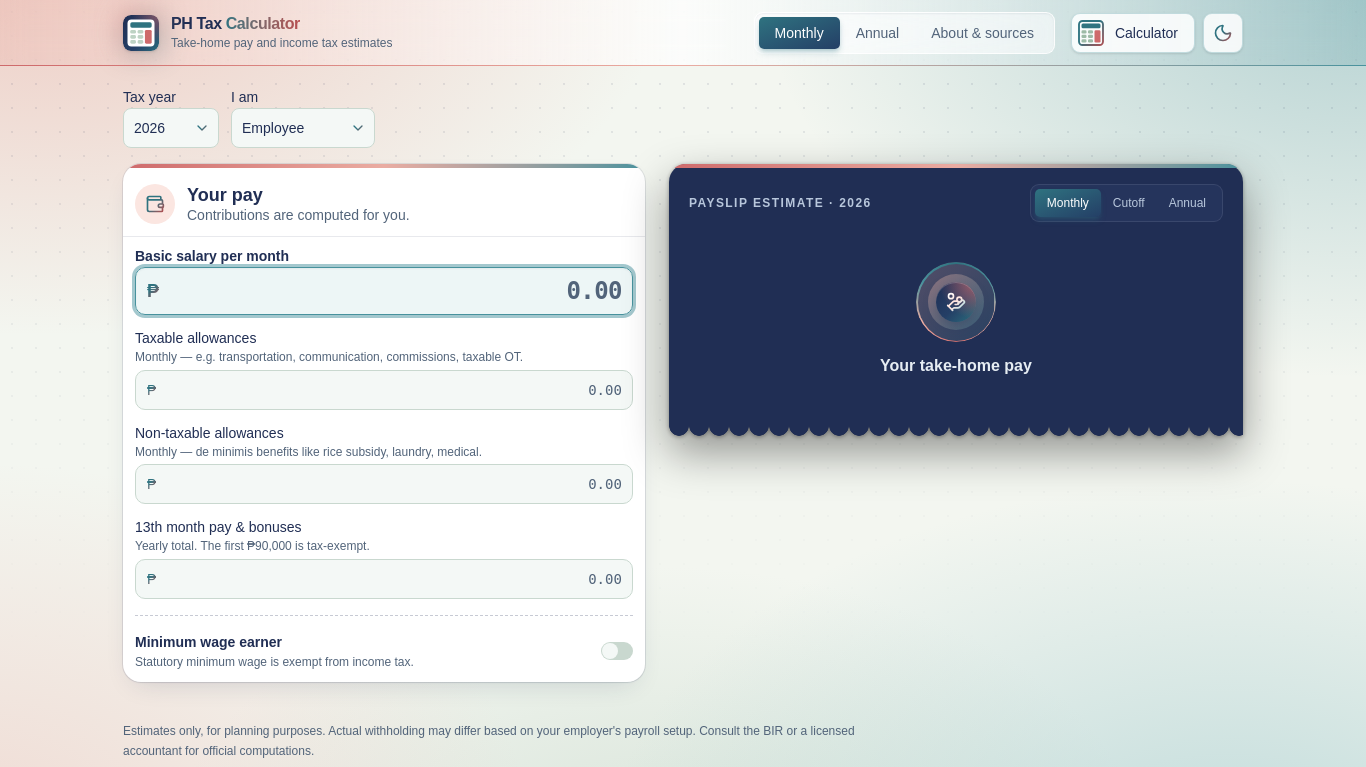
Scenario: the calculator in the app › opens and closes from the header button
Click the button "Calculator": [1133, 33] box [1071,13,1195,53]
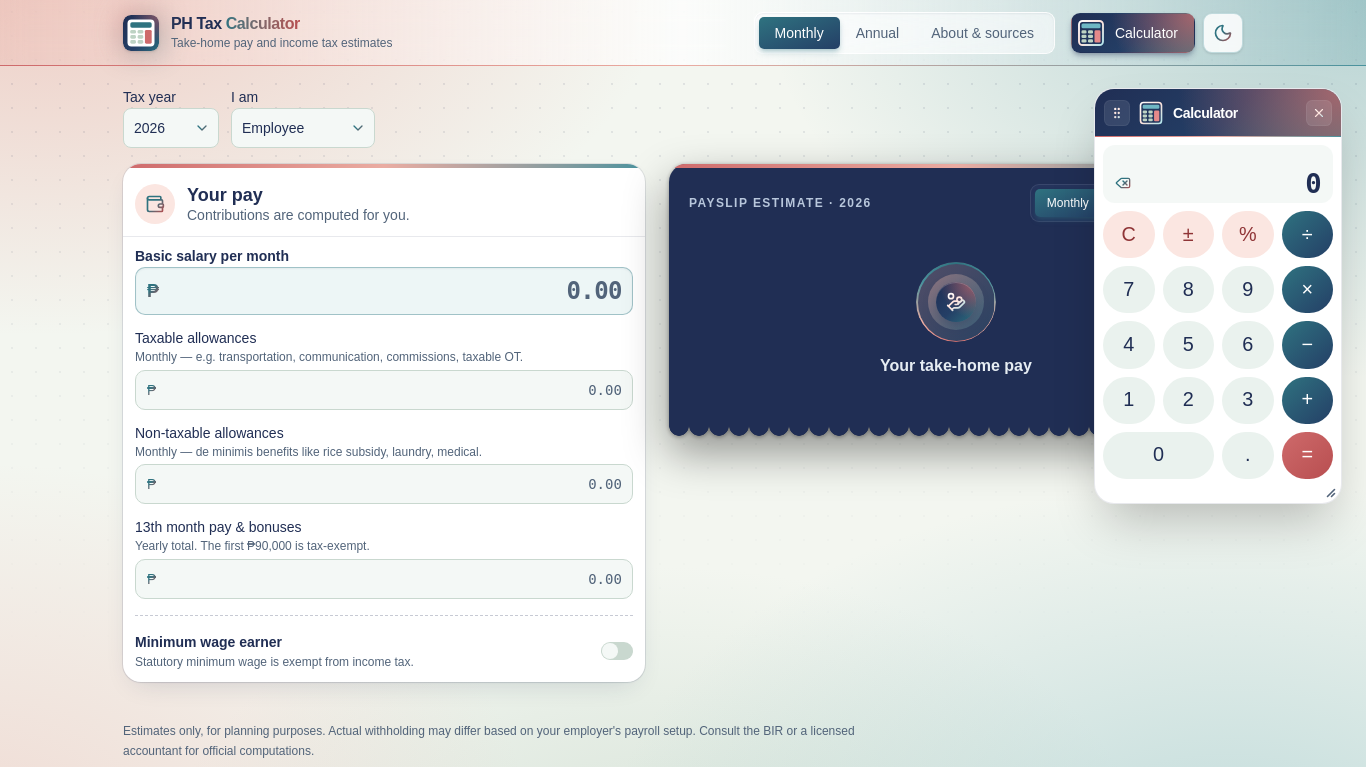
Check: the button "Calculator" is pressed
Click the button "Calculator": [1133, 33] box [1071,13,1195,53]
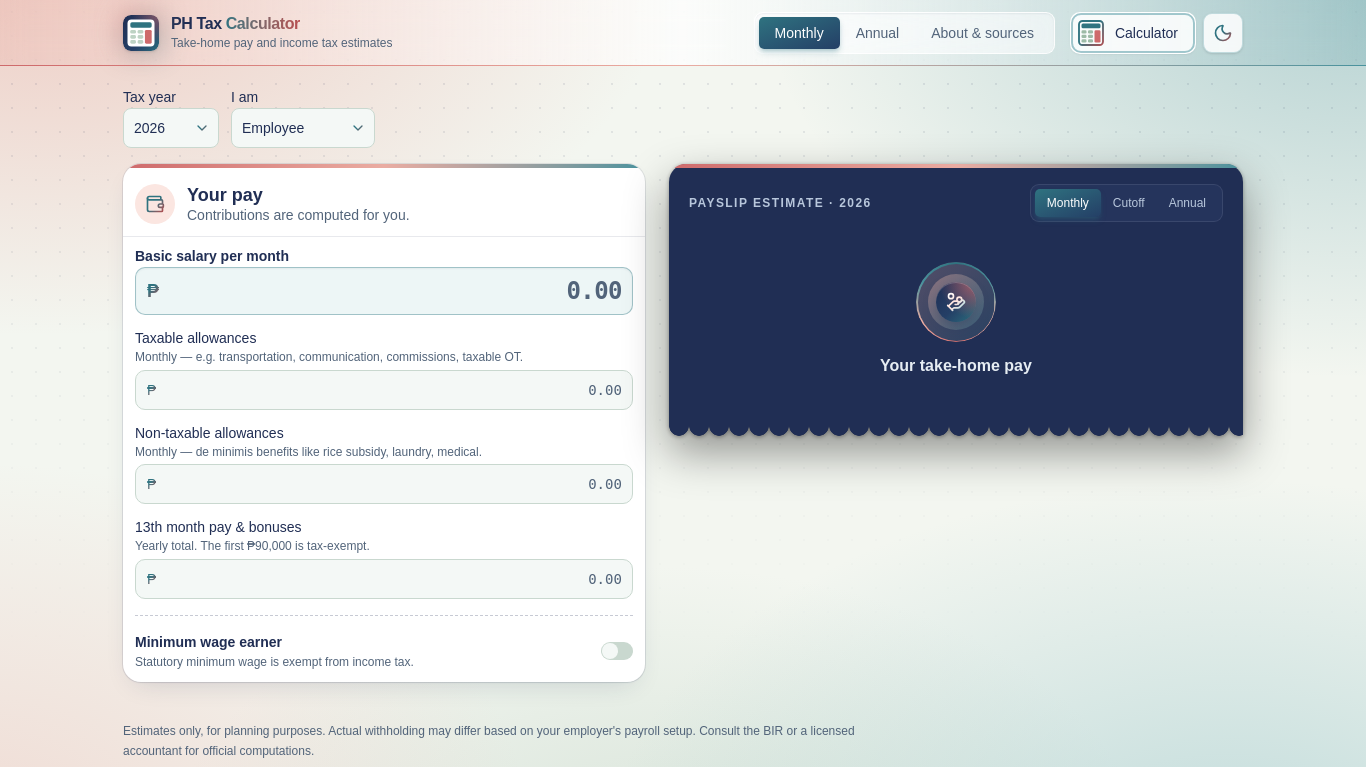
Check: the text "Calculator 0 C ± % ÷ 7 8 9 × 4 5 6 − 1 2 3 + 0 . =" is gone
